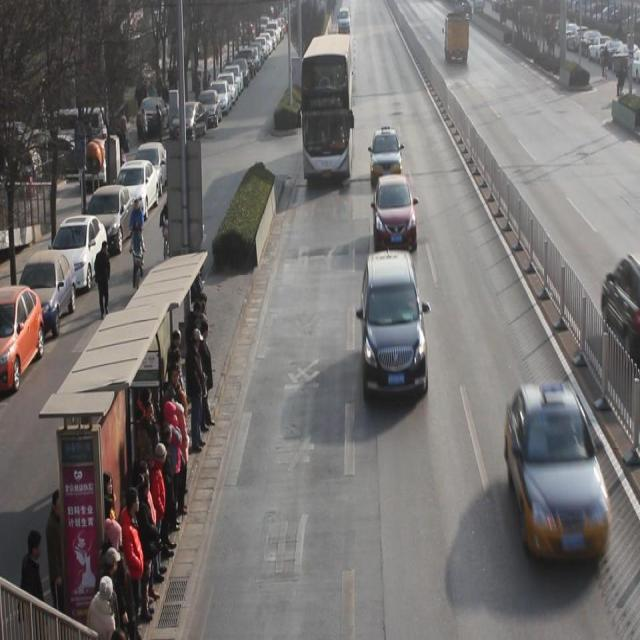bus: (445, 14, 470, 62)
car: (508, 384, 611, 564), (362, 249, 429, 403), (375, 174, 418, 254), (370, 128, 402, 184)
van: (300, 35, 353, 182)
